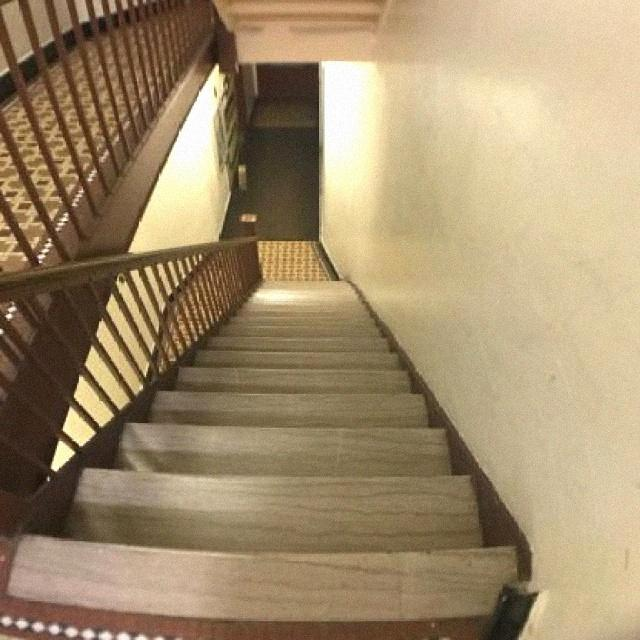stair: (0, 182, 538, 626)
